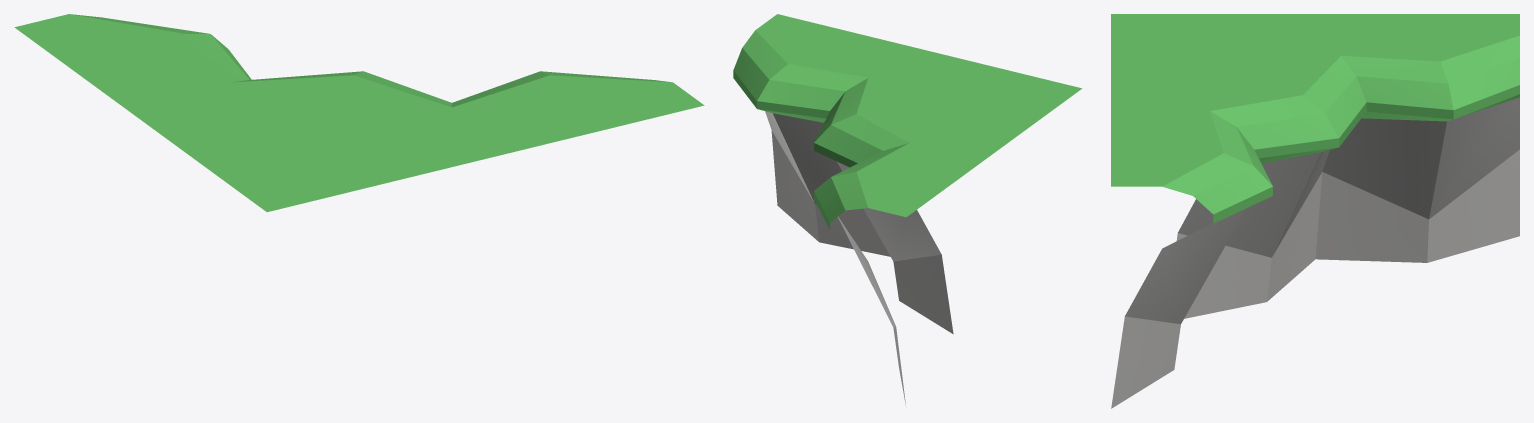
File: Cliff_Terrain_Corner_Inner_2x2_Top.glb
3 renders of one model, left to right at view 1: azimuth 30°, elevation 25°; view 2: azimuth 150°, elevation 25°; view 3: azimuth 270°, elevation 25°, orthographic. The views are drawn at different scales.
Parts seen in each view (by area): view 1: Cliff_Terrain_Corner_Inner_2x2_Top; view 2: Cliff_Terrain_Corner_Inner_2x2_Top; view 3: Cliff_Terrain_Corner_Inner_2x2_Top.
Boxes of the visible parts, <box> form: Cliff_Terrain_Corner_Inner_2x2_Top: <box>14,14,704,212</box>; Cliff_Terrain_Corner_Inner_2x2_Top: <box>733,14,1082,407</box>; Cliff_Terrain_Corner_Inner_2x2_Top: <box>1111,14,1519,408</box>.
Bounding box in the file's own units: 2 × 1.2 × 2.
